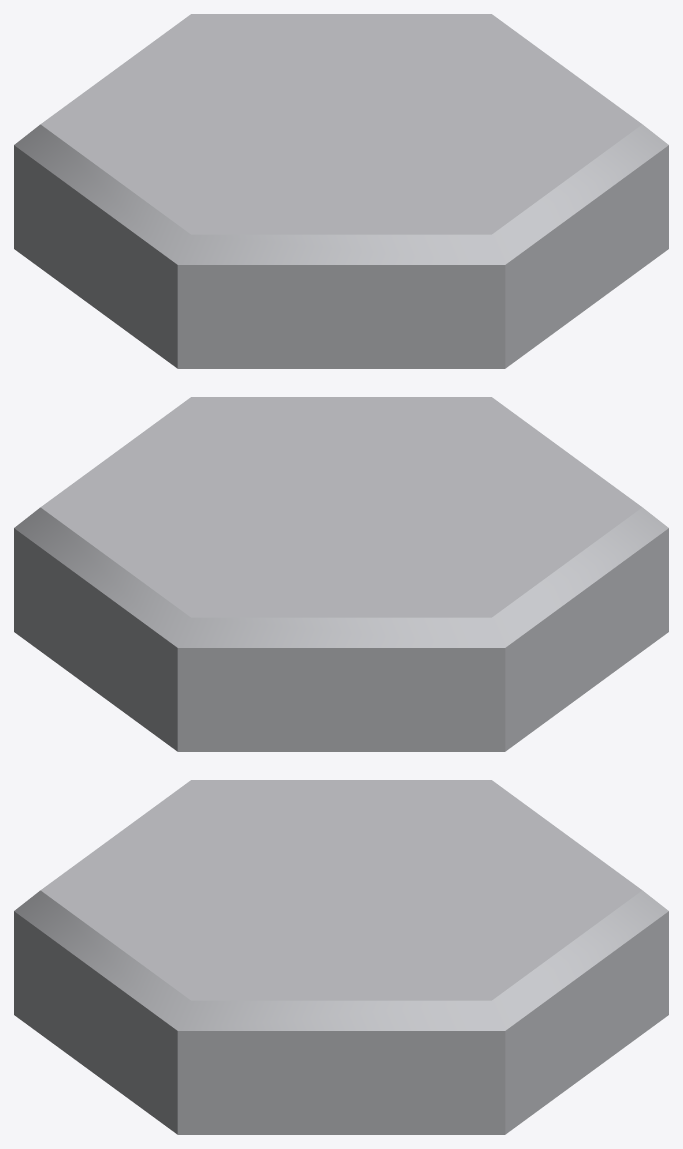
File: Tower_Base.fbx
The picture shows the model from 3 angles, top to bottom: view 1: azimuth 30°, elevation 25°; view 2: azimuth 150°, elevation 25°; view 3: azimuth 270°, elevation 25°; orthographic projection.
Parts seen in each view (by area): view 1: Tower_Base; view 2: Tower_Base; view 3: Tower_Base.
Boxes of the visible parts, left/top/right/bottom form: Tower_Base: left=14, top=14, right=668, bottom=368; Tower_Base: left=14, top=397, right=668, bottom=751; Tower_Base: left=14, top=780, right=668, bottom=1134.
Size of the model in its own units: 0.866 by 0.21 by 1.
1 material, 1 textured.
